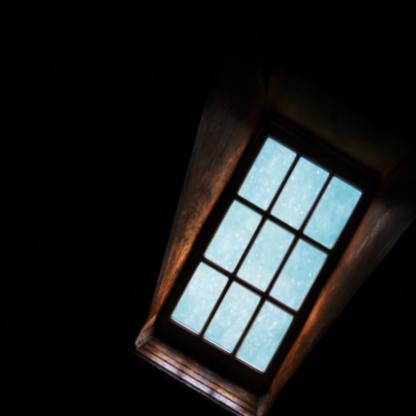Window: (143, 96, 384, 402)
